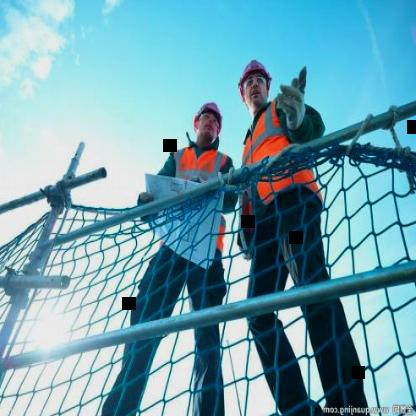helmet: (235, 48, 275, 114), (190, 95, 226, 149)
